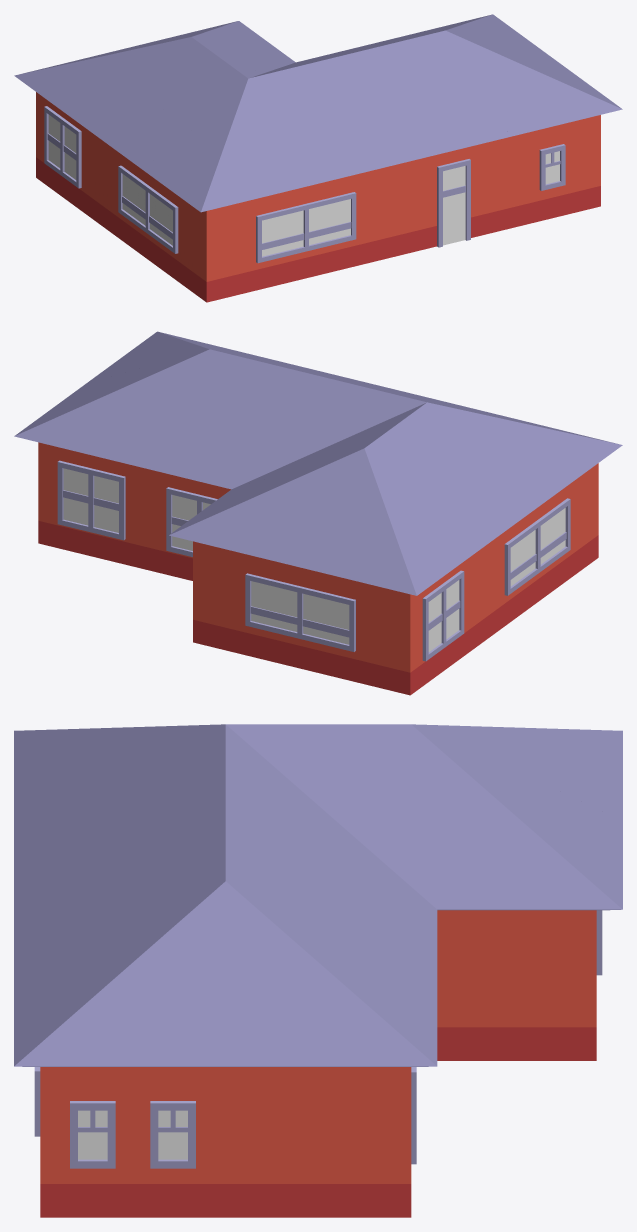
The model's file is house1.fbx.
3 renders of one model, top to bottom at view 1: azimuth 30°, elevation 25°; view 2: azimuth 150°, elevation 25°; view 3: azimuth 270°, elevation 25°, orthographic. The views are drawn at different scales.
Visible parts, largest first — view 1: mergedBlocks; view 2: mergedBlocks; view 3: mergedBlocks.
Part boxes in pixels (<box>): mergedBlocks: <box>14,14,622,302</box>; mergedBlocks: <box>14,331,622,695</box>; mergedBlocks: <box>14,724,622,1217</box>.
Bounding box in the file's own units: 42.83 × 15.35 × 32.83.
